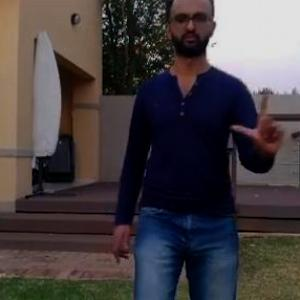land_hand: (226, 83, 294, 160)
